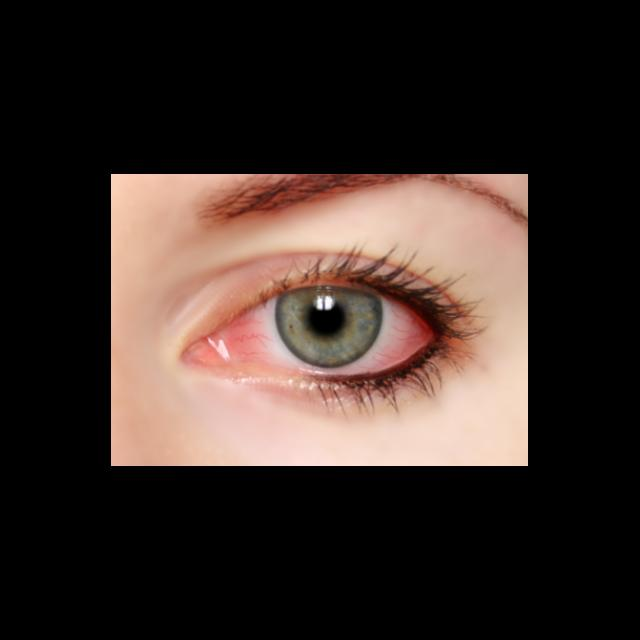eye: (238, 284, 432, 375)
iris: (277, 288, 384, 368)
